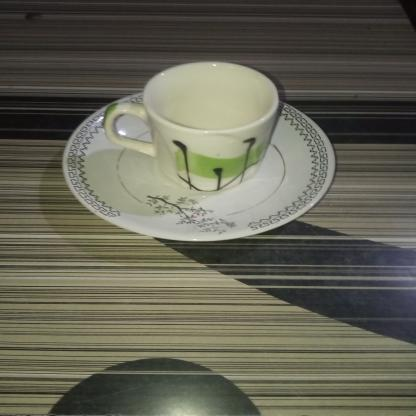cup: (103, 60, 284, 198)
